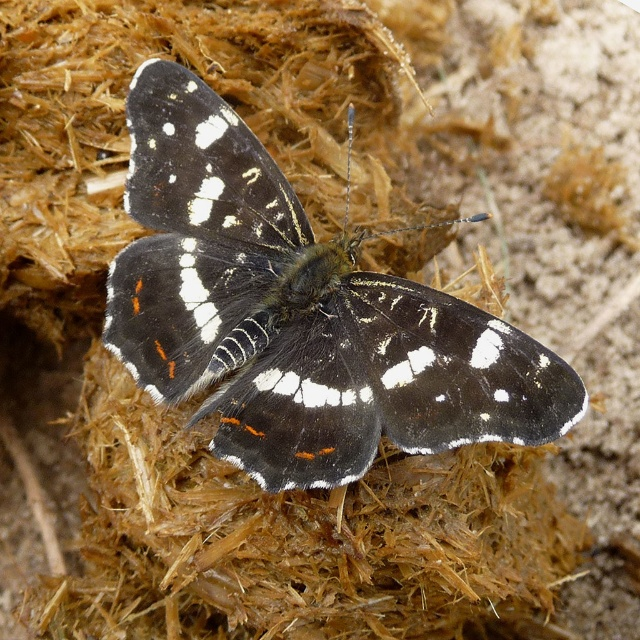Butterfly: (103, 62, 575, 504)
